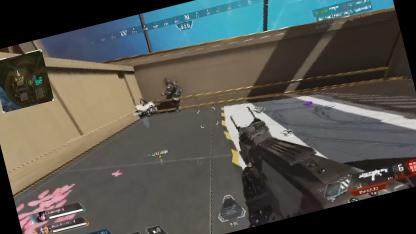Target: (160, 72, 186, 112)
